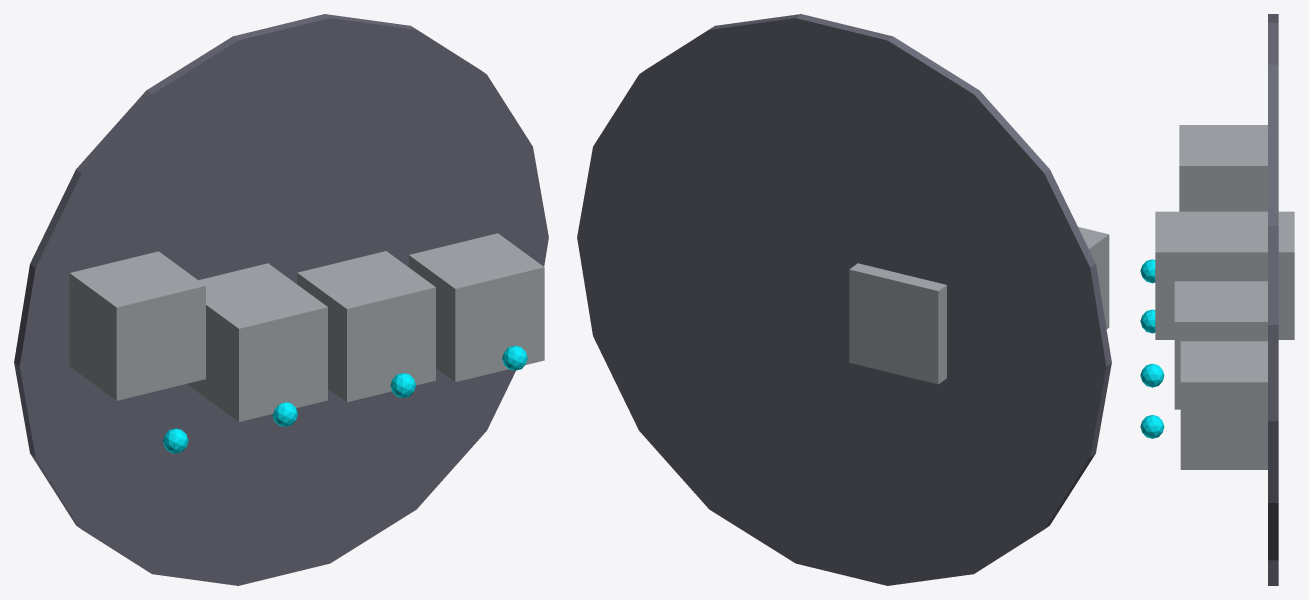
Rendered from 02_display_prop_cluster.glb.
The picture shows the model from 3 angles, left to right: view 1: azimuth 30°, elevation 25°; view 2: azimuth 150°, elevation 25°; view 3: azimuth 270°, elevation 25°; orthographic projection. The views are drawn at different scales.
Visible parts, largest first — view 1: scatter_base, tech_crate_0, tech_crate_1, tech_crate_2, tech_crate_3; view 2: scatter_base, tech_crate_1, tech_crate_0; view 3: tech_crate_1, tech_crate_3, tech_crate_0, scatter_base, tech_crate_2, status_light_3, status_light_2, status_light_0, status_light_1.
Part boxes in pixels (box(x1,y1,x2,y2)): scatter_base: box(14, 14, 548, 585); tech_crate_0: box(69, 251, 205, 400); tech_crate_1: box(187, 263, 327, 421); tech_crate_2: box(297, 251, 435, 402); tech_crate_3: box(409, 233, 544, 382); scatter_base: box(577, 14, 1111, 585); tech_crate_1: box(849, 263, 946, 384); tech_crate_0: box(1078, 227, 1109, 328); tech_crate_1: box(1155, 211, 1294, 339); tech_crate_3: box(1180, 341, 1267, 469); tech_crate_0: box(1179, 125, 1267, 211); scatter_base: box(1268, 14, 1278, 585); tech_crate_2: box(1174, 281, 1267, 409); status_light_3: box(1140, 415, 1164, 438); status_light_2: box(1140, 363, 1164, 387); status_light_0: box(1140, 259, 1155, 283); status_light_1: box(1140, 309, 1155, 333).
Bounding box in the file's own units: 1.9 × 1.87 × 0.5105.
